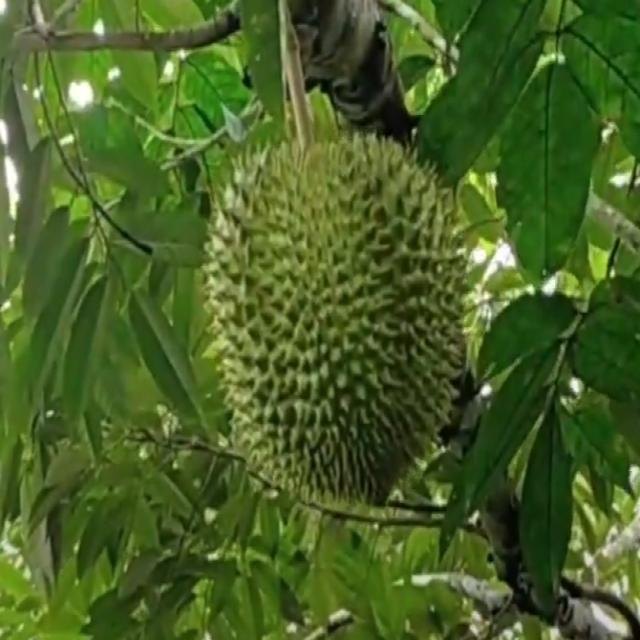immature: (205, 128, 464, 518)
